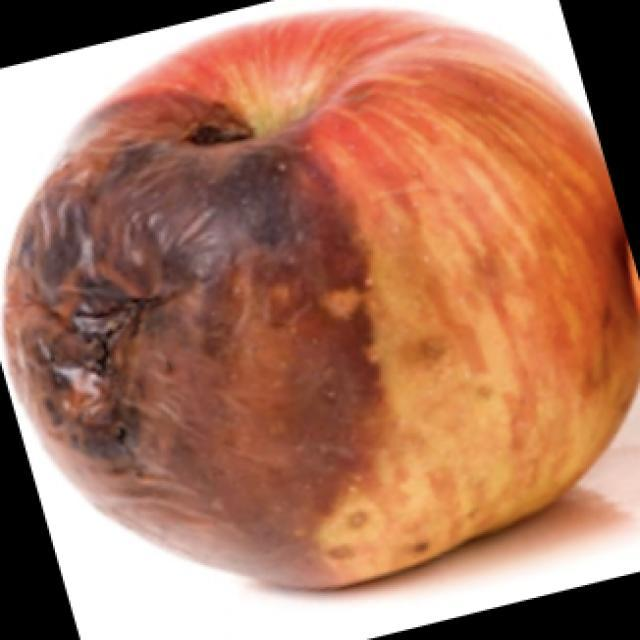Rotten: (33, 18, 627, 567)
